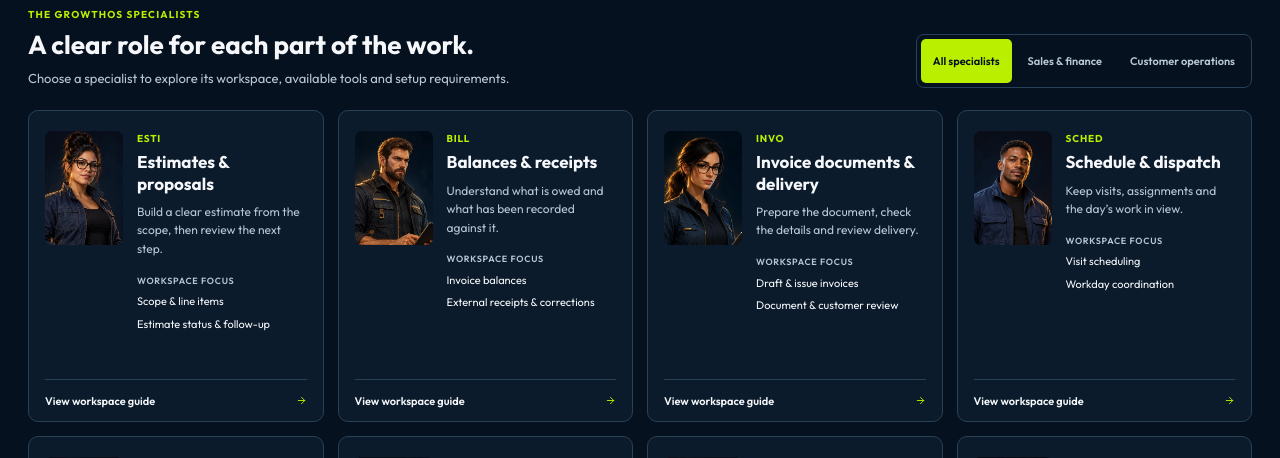
it: keeps customer balances distinct from subscriptions and payment collection
Click the button with aria-label "View BILL" at (485, 266), box [338,110,633,422]
(page scrolled)
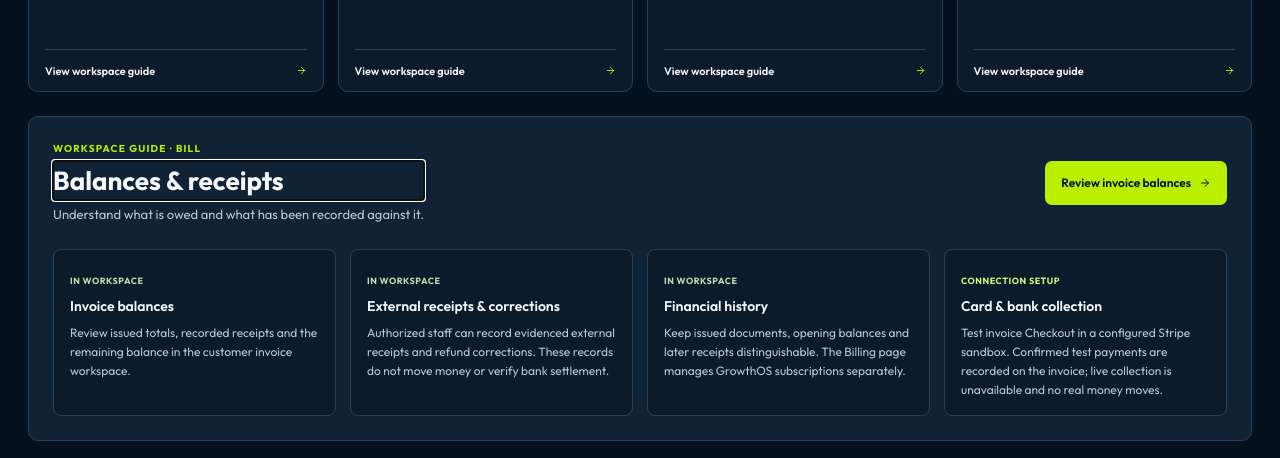
Expected: the text "Billing page manages GrowthOS subscriptions separately" is shown, [664,325,909,378]
Expected: the text "do not move money or verify bank settlement" is shown, [367,325,615,378]
